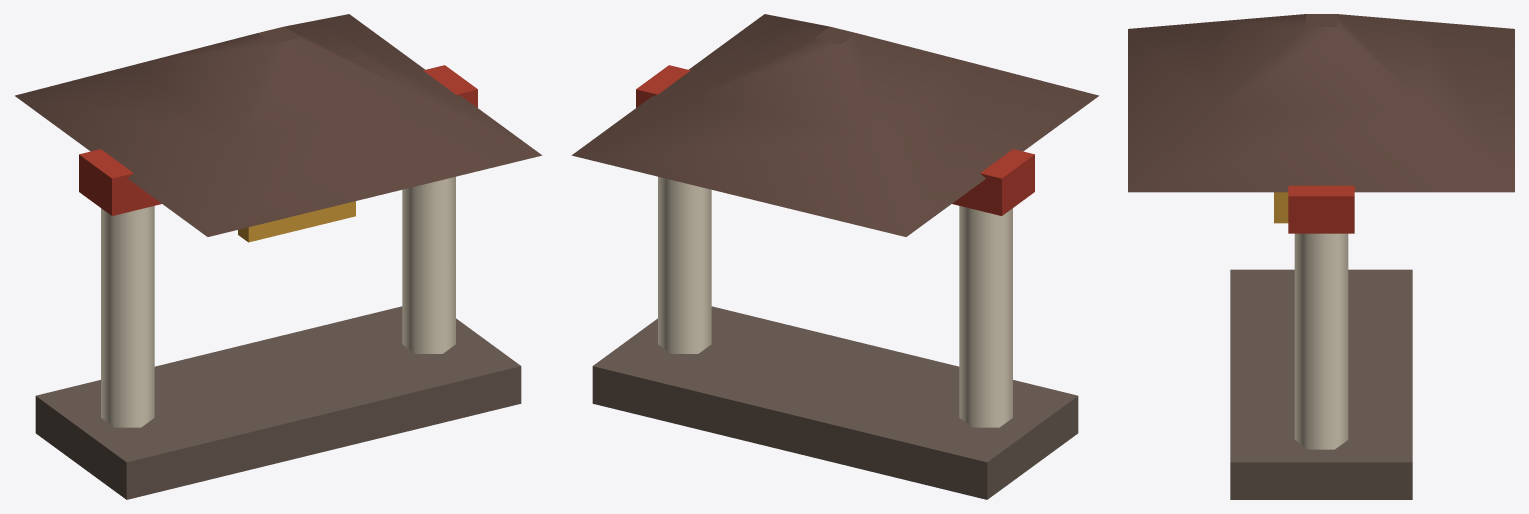
The model's file is shan_men.glb.
The picture shows the model from 3 angles, left to right: view 1: azimuth 30°, elevation 25°; view 2: azimuth 150°, elevation 25°; view 3: azimuth 270°, elevation 25°; orthographic projection.
Parts seen in each view (by area): view 1: _MeshInstance3D_60, _MeshInstance3D_56, _MeshInstance3D_57, _MeshInstance3D_58, _MeshInstance3D_59, _MeshInstance3D_61; view 2: _MeshInstance3D_60, _MeshInstance3D_56, _MeshInstance3D_57, _MeshInstance3D_58, _MeshInstance3D_59; view 3: _MeshInstance3D_60, _MeshInstance3D_56, _MeshInstance3D_58, _MeshInstance3D_59, _MeshInstance3D_61.
Part boxes in pixels (x1,y1,x2,y2): _MeshInstance3D_60: [15, 14, 542, 236]; _MeshInstance3D_56: [35, 306, 521, 499]; _MeshInstance3D_57: [101, 206, 154, 427]; _MeshInstance3D_58: [402, 176, 455, 353]; _MeshInstance3D_59: [79, 65, 477, 215]; _MeshInstance3D_61: [238, 201, 355, 242]; _MeshInstance3D_60: [571, 14, 1098, 236]; _MeshInstance3D_56: [592, 306, 1078, 499]; _MeshInstance3D_57: [959, 206, 1012, 427]; _MeshInstance3D_58: [658, 176, 711, 353]; _MeshInstance3D_59: [636, 65, 1034, 215]; _MeshInstance3D_60: [1128, 14, 1514, 192]; _MeshInstance3D_56: [1230, 269, 1412, 499]; _MeshInstance3D_58: [1294, 233, 1348, 449]; _MeshInstance3D_59: [1288, 185, 1354, 233]; _MeshInstance3D_61: [1274, 192, 1288, 223].
Bounding box in the file's own units: 1.1 × 1.02 × 0.9334.
